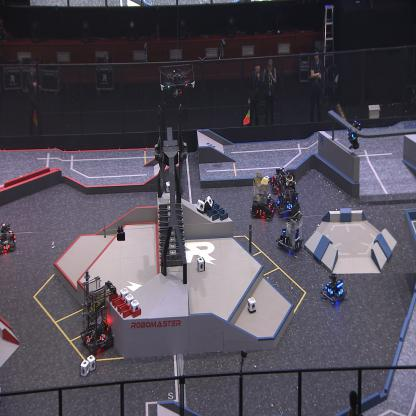car: (80, 276, 115, 358), (274, 171, 301, 218), (249, 174, 276, 221), (278, 209, 305, 254), (320, 271, 348, 306), (0, 221, 17, 255), (271, 167, 286, 195)
